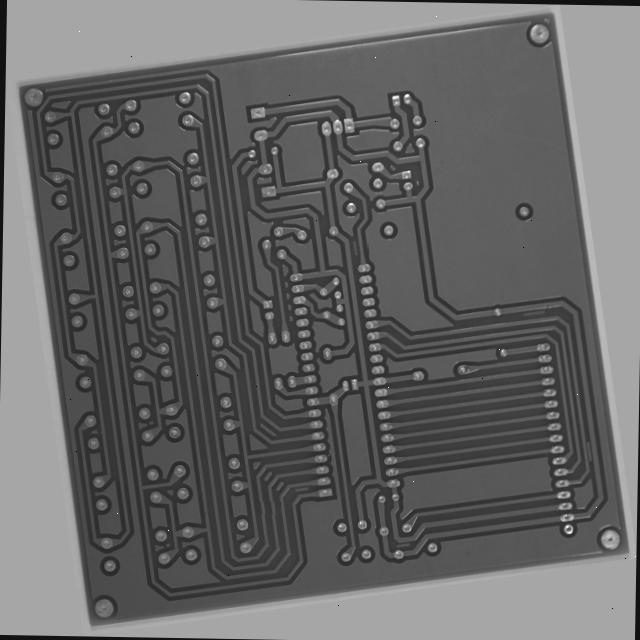spurious_copper: (549, 344, 577, 359), (594, 501, 606, 531), (362, 581, 384, 595), (257, 501, 279, 514), (366, 232, 376, 255)
